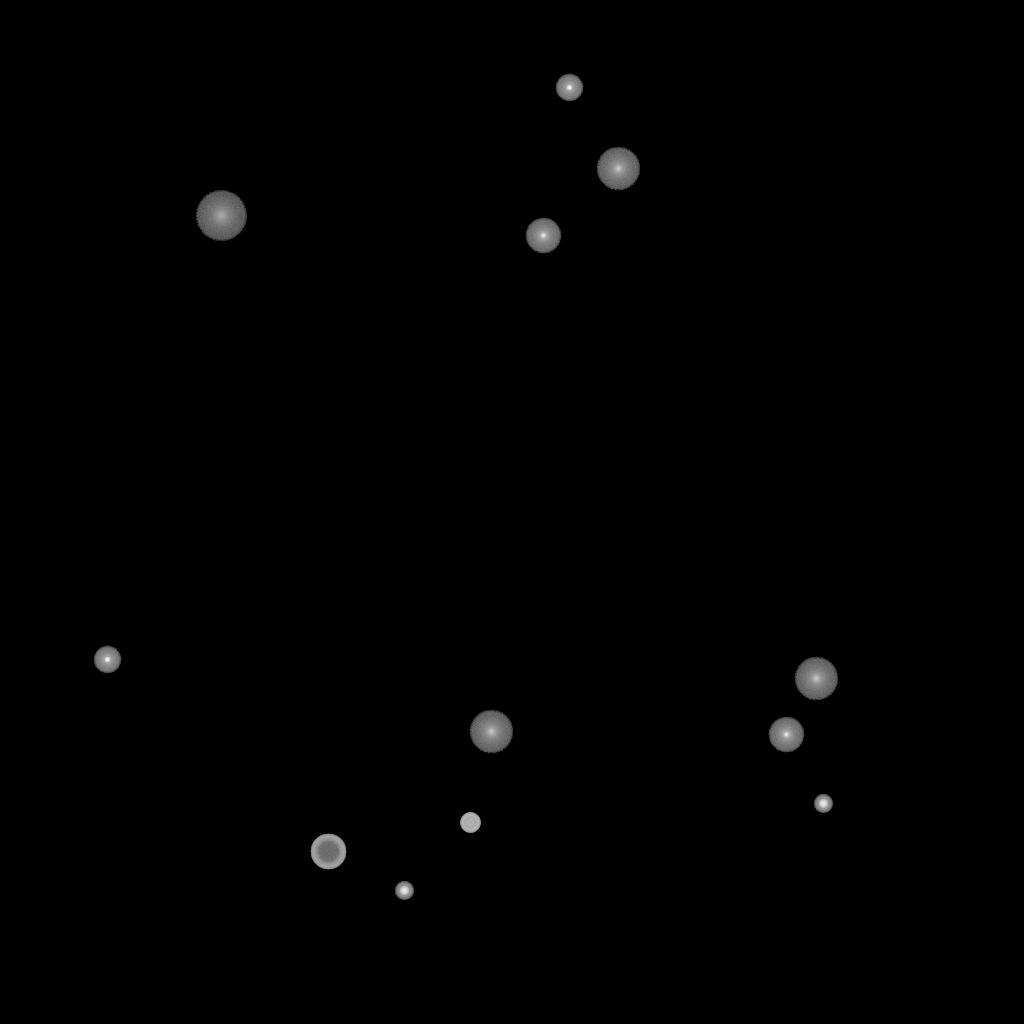depth:-10: (93, 646, 121, 674), (555, 74, 583, 102)
depth:-20: (814, 795, 832, 813), (395, 882, 413, 900)
depth:-40: (460, 813, 480, 833)
depth:-60: (310, 834, 346, 870)
depth:0: (768, 717, 804, 753), (525, 218, 561, 254)
depth:10: (469, 710, 513, 754), (596, 147, 640, 191), (794, 657, 838, 701)
depth:20: (195, 191, 247, 241)
